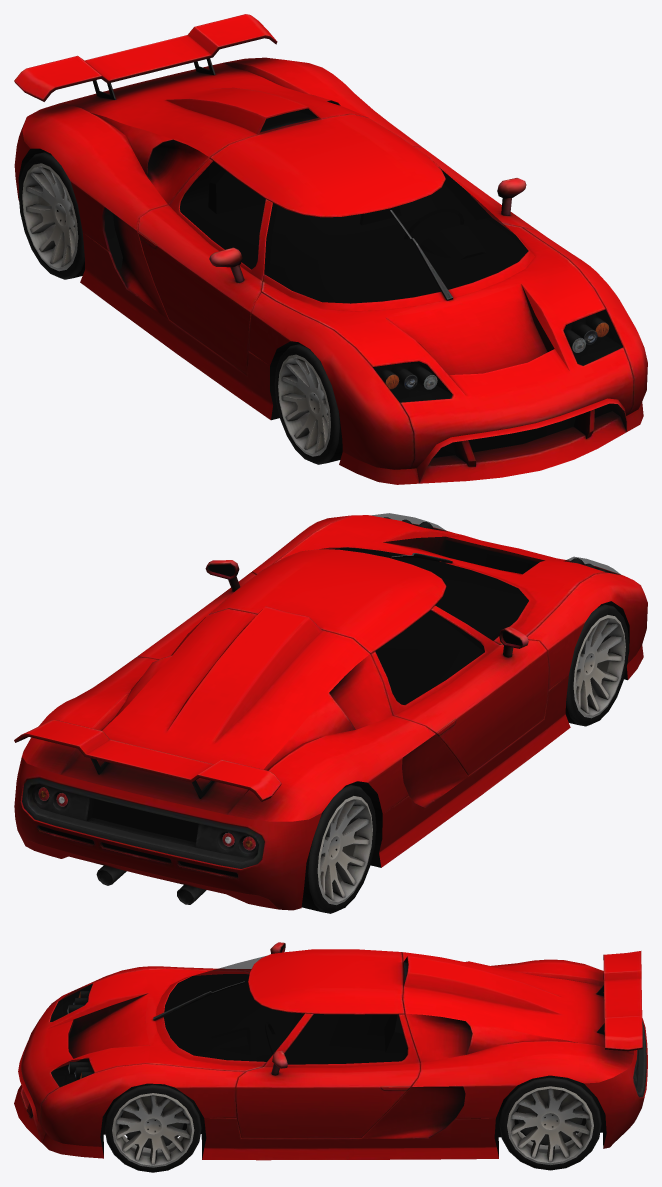
The model's file is pack_sport.glb.
3 views of the same model, one above another, from view 1: azimuth 30°, elevation 25°; view 2: azimuth 150°, elevation 25°; view 3: azimuth 270°, elevation 25° (orthographic). The views are drawn at different scales.
Visible parts, largest first — view 1: Sport body_Body_0, Sport body_Glass_0, Wheel_H003_Wheel_0, Wheel_H002_Wheel_0, Sport body_Optics_0; view 2: Sport body_Body_0, Sport body_Glass_0, Wheel_H003_Wheel_0, Wheel_H002_Wheel_0, Sport body_Optics_0; view 3: Sport body_Body_0, Sport body_Glass_0, Wheel_H001_Wheel_0, Wheel_H_Wheel_0.
Boxes of the visible parts, x1,y1,x2,y2 form: Sport body_Body_0: [14, 14, 647, 484]; Sport body_Glass_0: [180, 161, 622, 402]; Wheel_H003_Wheel_0: [18, 151, 84, 279]; Wheel_H002_Wheel_0: [274, 343, 342, 464]; Sport body_Optics_0: [385, 322, 608, 389]; Sport body_Body_0: [14, 515, 647, 910]; Sport body_Glass_0: [320, 513, 620, 704]; Wheel_H003_Wheel_0: [301, 784, 376, 913]; Wheel_H002_Wheel_0: [565, 603, 629, 726]; Sport body_Optics_0: [38, 787, 255, 850]; Sport body_Body_0: [14, 942, 647, 1160]; Sport body_Glass_0: [50, 956, 407, 1086]; Wheel_H001_Wheel_0: [499, 1075, 601, 1170]; Wheel_H_Wheel_0: [104, 1083, 201, 1172].
Size of the model in its own units: 1.77 by 1.04 by 3.91.
4 materials, 3 textured.
